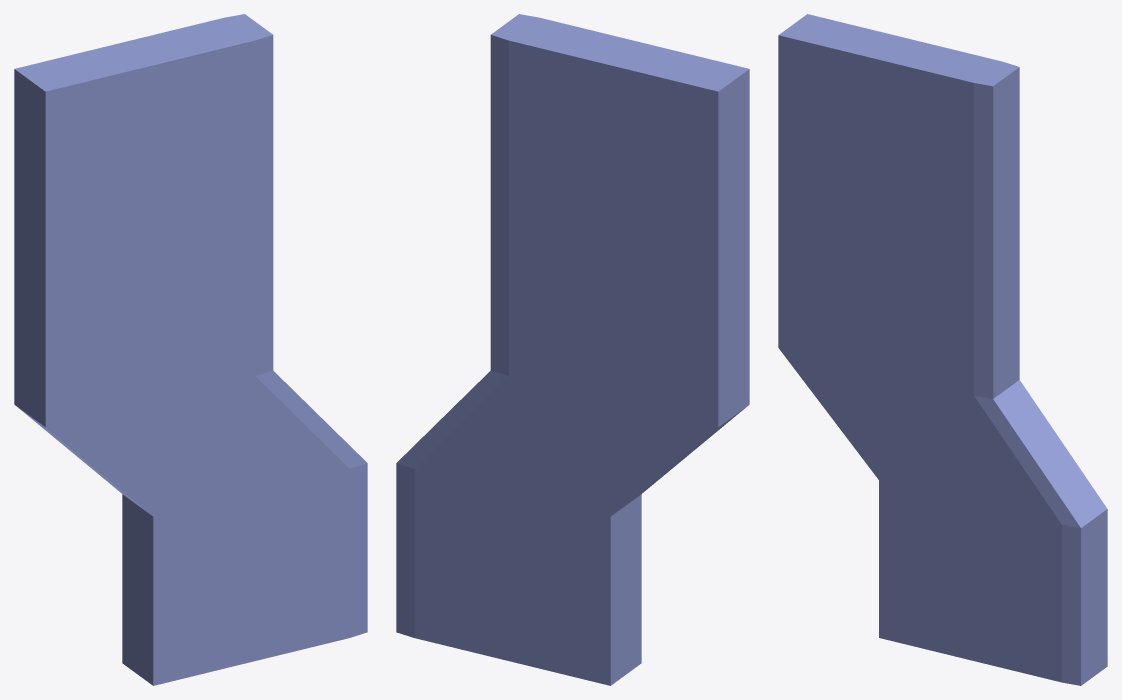
Rendered from leftDoor.fbx.
3 views of the same model, side by side, from view 1: azimuth 30°, elevation 25°; view 2: azimuth 150°, elevation 25°; view 3: azimuth 330°, elevation 25° (orthographic). The views are drawn at different scales.
Visible parts, largest first — view 1: leftDoor; view 2: leftDoor; view 3: leftDoor.
Part boxes in pixels (x1,y1,x2,y2): leftDoor: (14, 14, 367, 685); leftDoor: (396, 14, 749, 685); leftDoor: (778, 14, 1107, 685).
Size of the model in its own units: 240 by 440 by 40.
